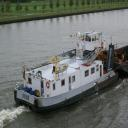tugboat: (15, 30, 121, 121)
